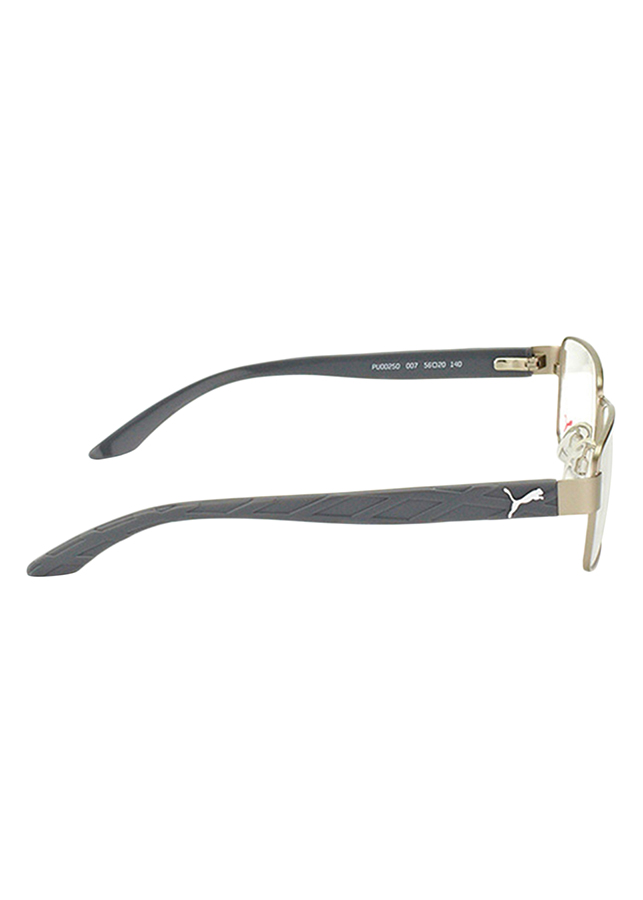Puma: (501, 481, 549, 529)
